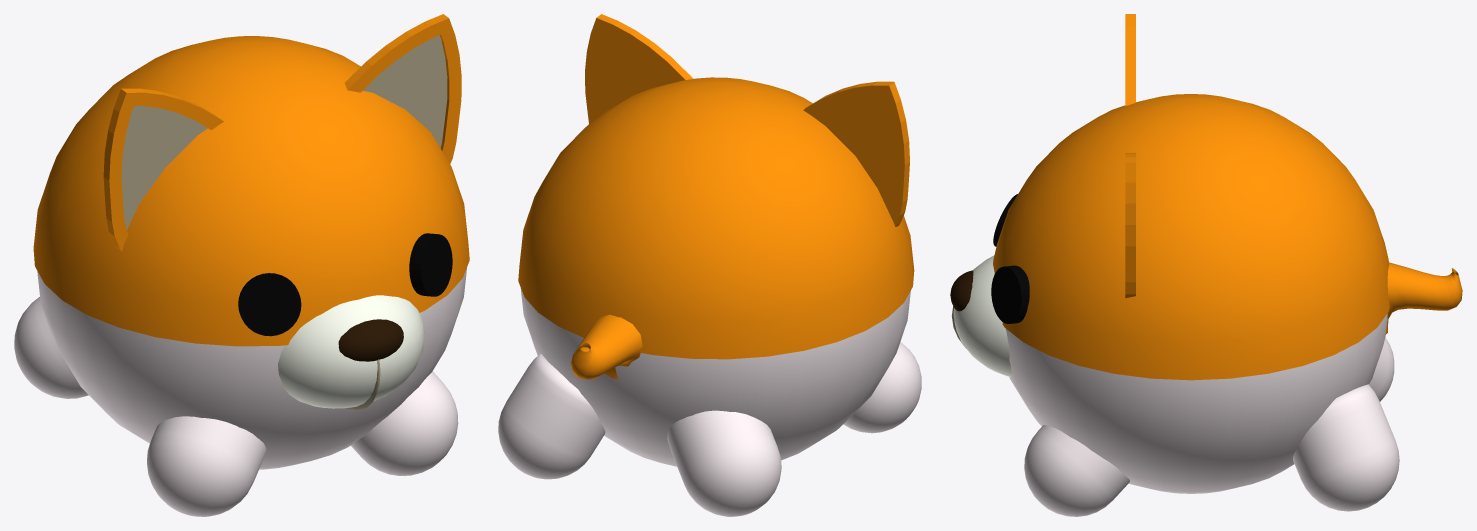
The model's file is MuchWOW.fbx.
3 renders of one model, left to right at view 1: azimuth 30°, elevation 25°; view 2: azimuth 150°, elevation 25°; view 3: azimuth 270°, elevation 25°, orthographic. The views are drawn at different scales.
Parts seen in each view (by area): view 1: Sphere.012; view 2: Sphere.012; view 3: Sphere.012.
Part boxes in pixels (bbox=[...]): Sphere.012: bbox=[14, 14, 469, 516]; Sphere.012: bbox=[498, 14, 921, 516]; Sphere.012: bbox=[950, 14, 1462, 516].
Bounding box in the file's own units: 2016 × 2563 × 2149.
